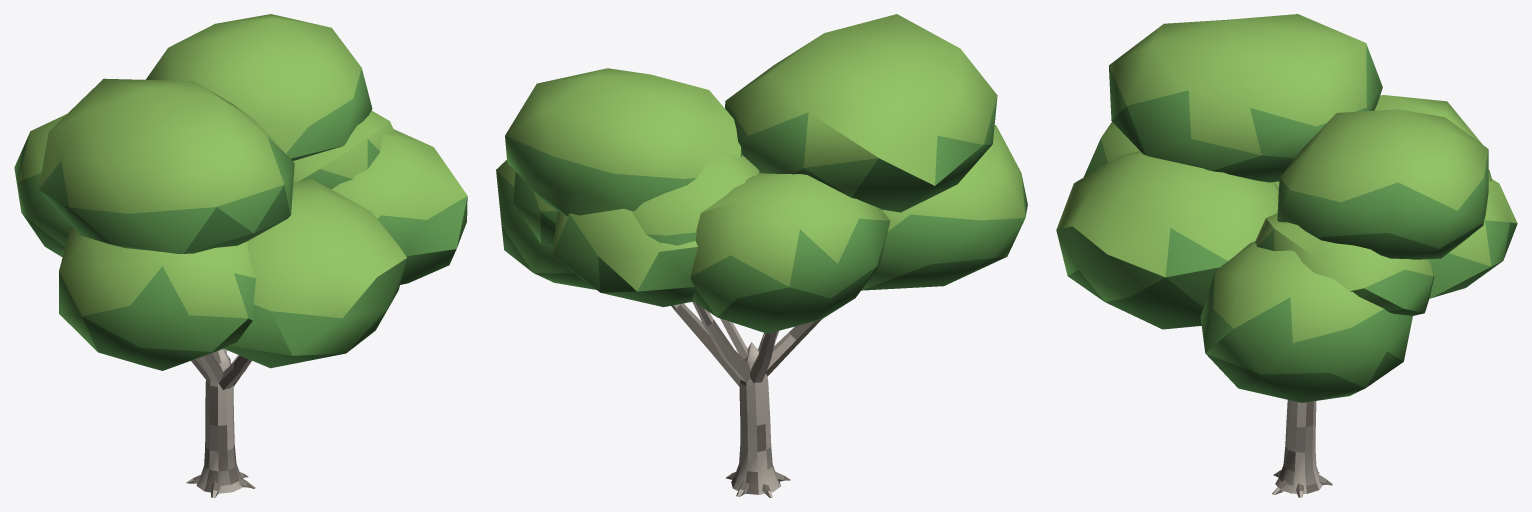
File: SC_Nat_Zelkova.gltf
The picture shows the model from 3 angles, left to right: view 1: azimuth 30°, elevation 25°; view 2: azimuth 150°, elevation 25°; view 3: azimuth 270°, elevation 25°; orthographic projection. The views are drawn at different scales.
Parts seen in each view (by area): view 1: SC_Nat_Zelkova; view 2: SC_Nat_Zelkova; view 3: SC_Nat_Zelkova.
Boxes of the visible parts, left/top/right/bottom form: SC_Nat_Zelkova: left=14, top=14, right=467, bottom=497; SC_Nat_Zelkova: left=496, top=14, right=1027, bottom=497; SC_Nat_Zelkova: left=1056, top=14, right=1517, bottom=497.
Size of the model in its own units: 10.69 by 9.94 by 9.98.
1 material, 1 textured.
